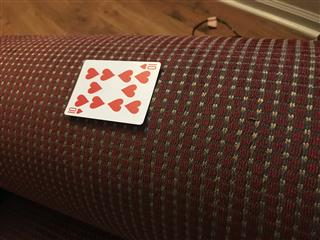TenOfHearts: (62, 58, 162, 125)
